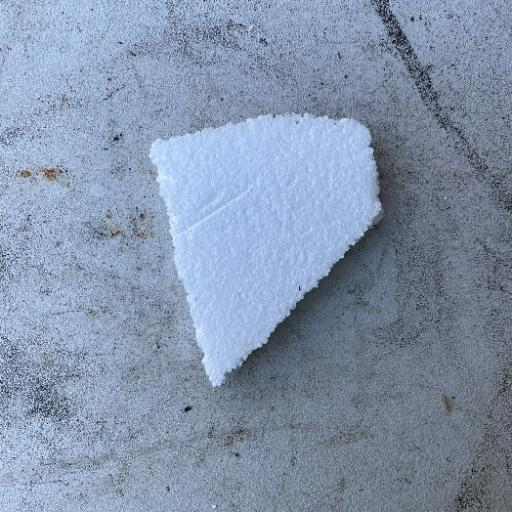Plastic: (146, 109, 386, 389)
